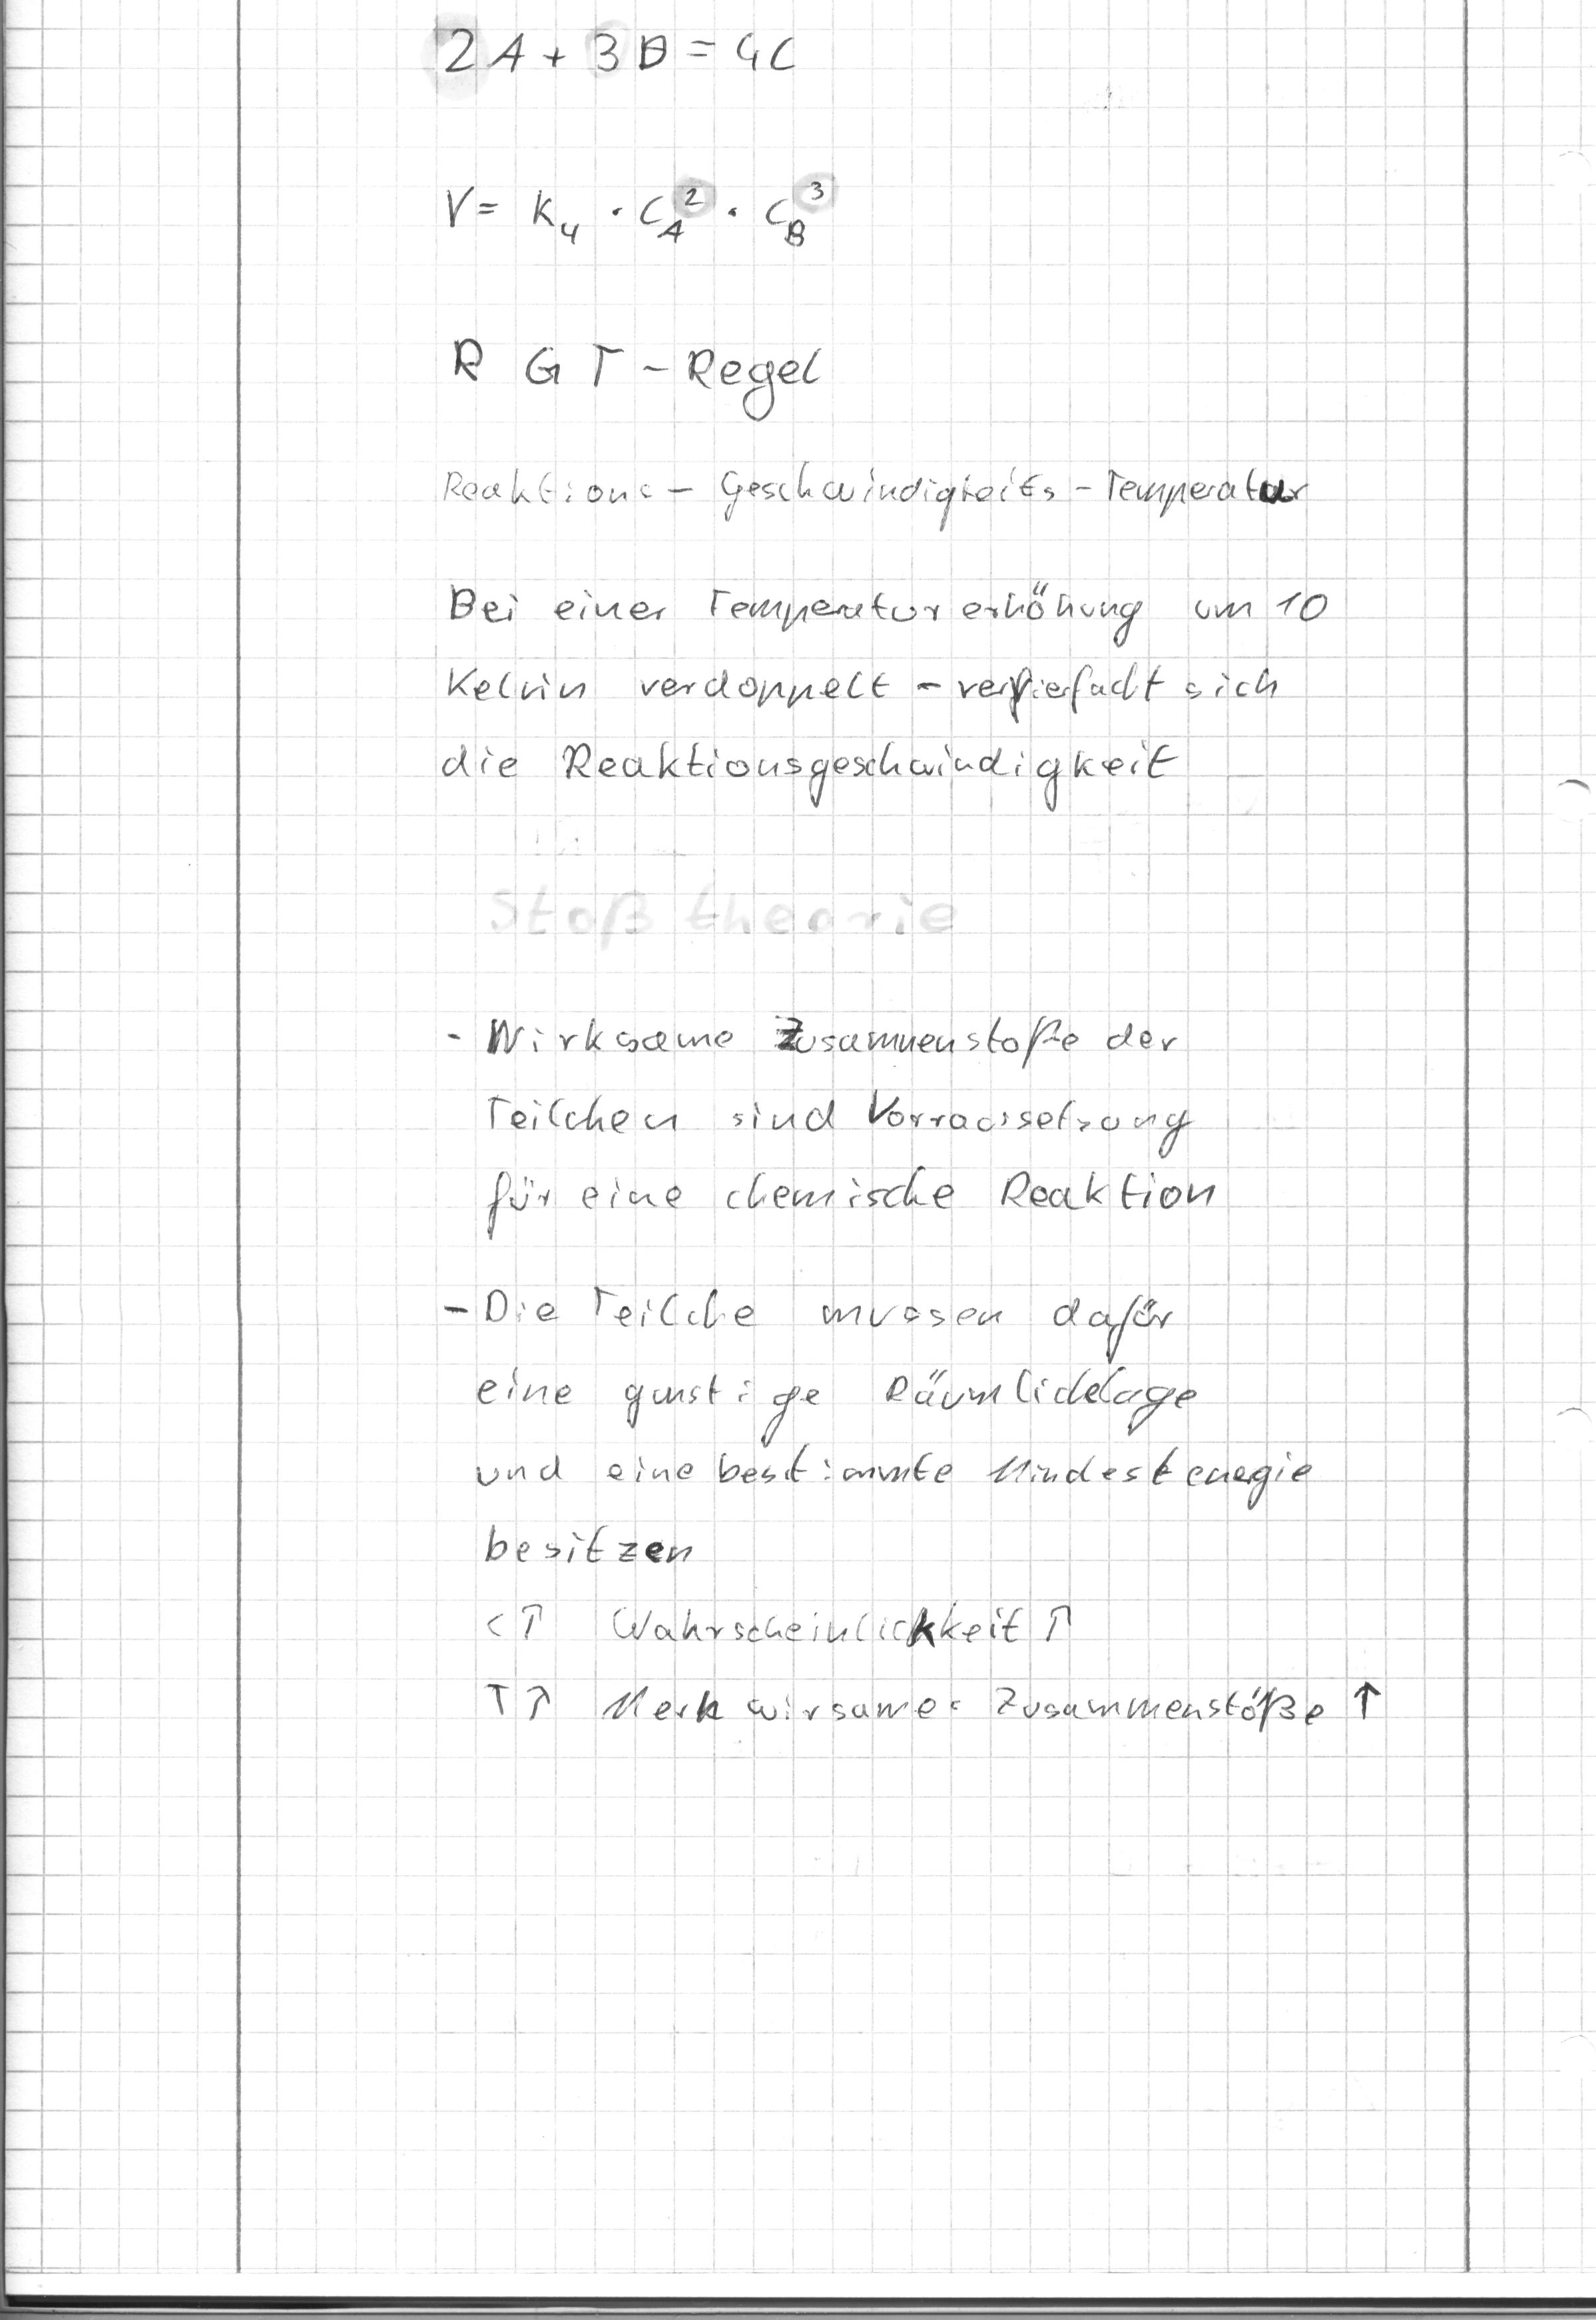word: (435, 1276, 1336, 1579), (427, 562, 1338, 828), (428, 1002, 1230, 1255), (476, 1583, 1396, 1747), (419, 443, 1321, 549), (420, 142, 853, 274), (441, 318, 840, 437), (411, 2, 814, 98)
